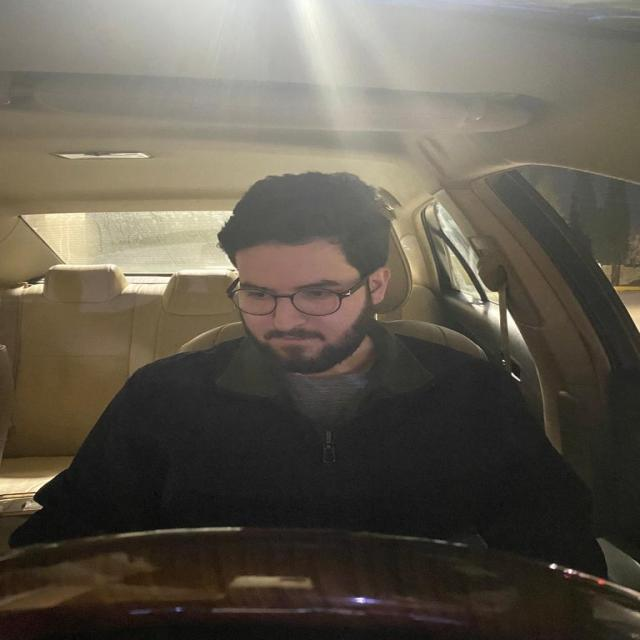person: (212, 169, 406, 378)
